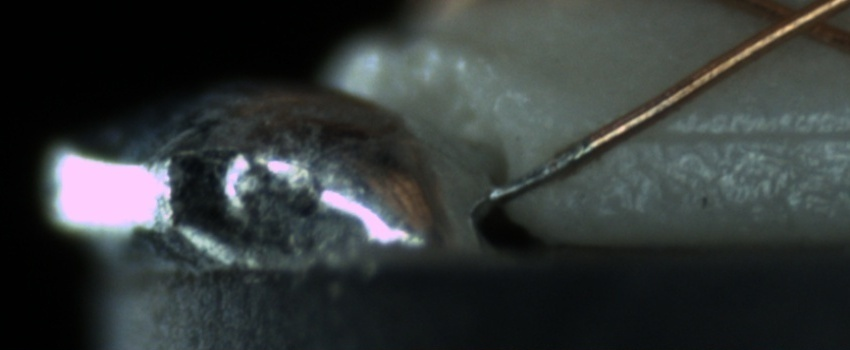CL: (751, 1, 841, 48)
DL: (631, 102, 850, 163)
TS: (491, 138, 593, 203)
TTCW: (483, 125, 607, 207)
